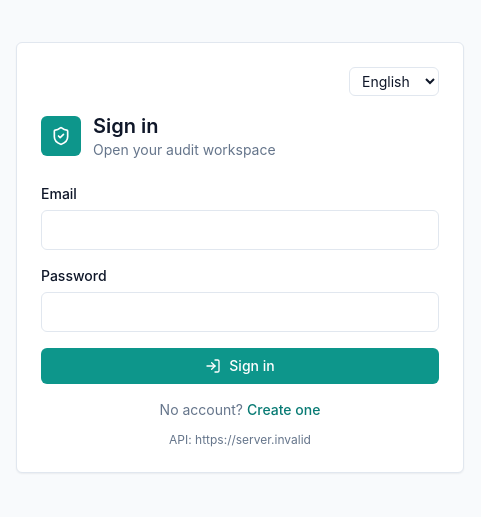
Test case: login page › blocks invalid email
This screenshot has width=481, height=517.
In the field labelled "Email": (240,230) left=41, top=210, right=439, bottom=250, type "bad-email"
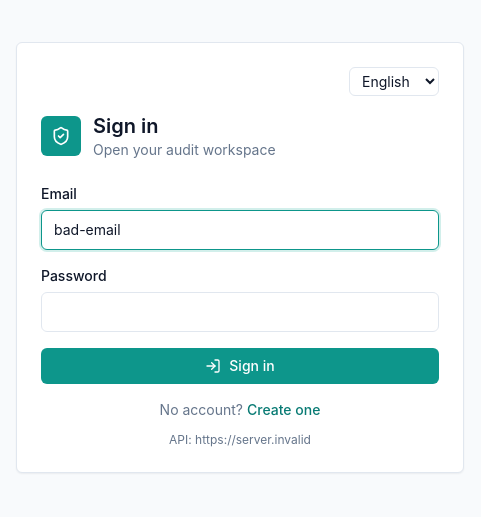
Click the button "Sign in": (240,366) left=41, top=348, right=439, bottom=384
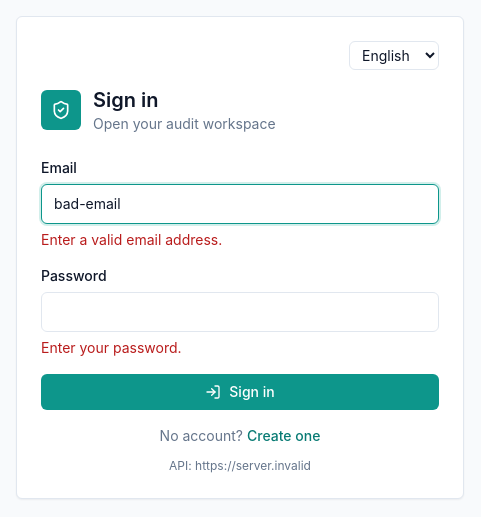
Check: the text "Enter a valid email address." is shown, box left=41, top=230, right=222, bottom=248
